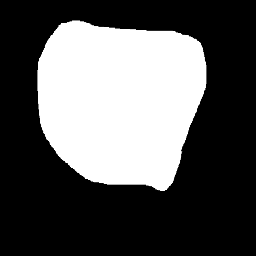mass: (38, 23, 201, 187)
